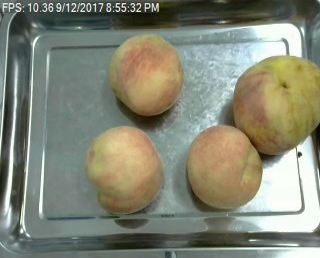Peach: (232, 53, 319, 155), (85, 125, 163, 214), (187, 124, 263, 209), (108, 33, 184, 115)
